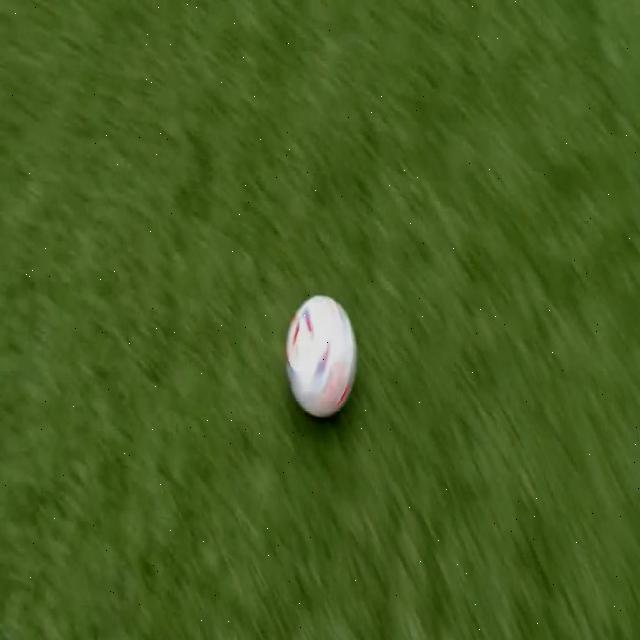ball: (285, 295, 357, 420)
